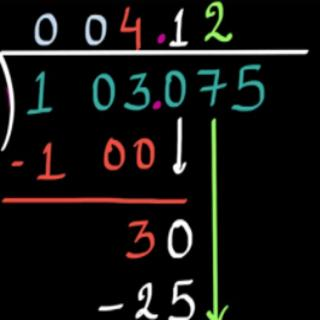.: (154, 31, 166, 46), (152, 98, 163, 111)
0: (163, 215, 194, 263), (90, 73, 117, 118), (97, 135, 125, 175), (82, 6, 108, 47), (32, 11, 60, 47), (164, 66, 186, 110), (133, 135, 156, 172)
1: (21, 70, 60, 118), (34, 138, 69, 180), (169, 9, 190, 48)
2: (196, 1, 238, 49), (129, 279, 160, 319)
3: (123, 219, 156, 259), (121, 73, 150, 113)
4: (115, 3, 143, 50)
5: (227, 60, 270, 114), (165, 276, 198, 320)
7: (193, 63, 227, 110)
